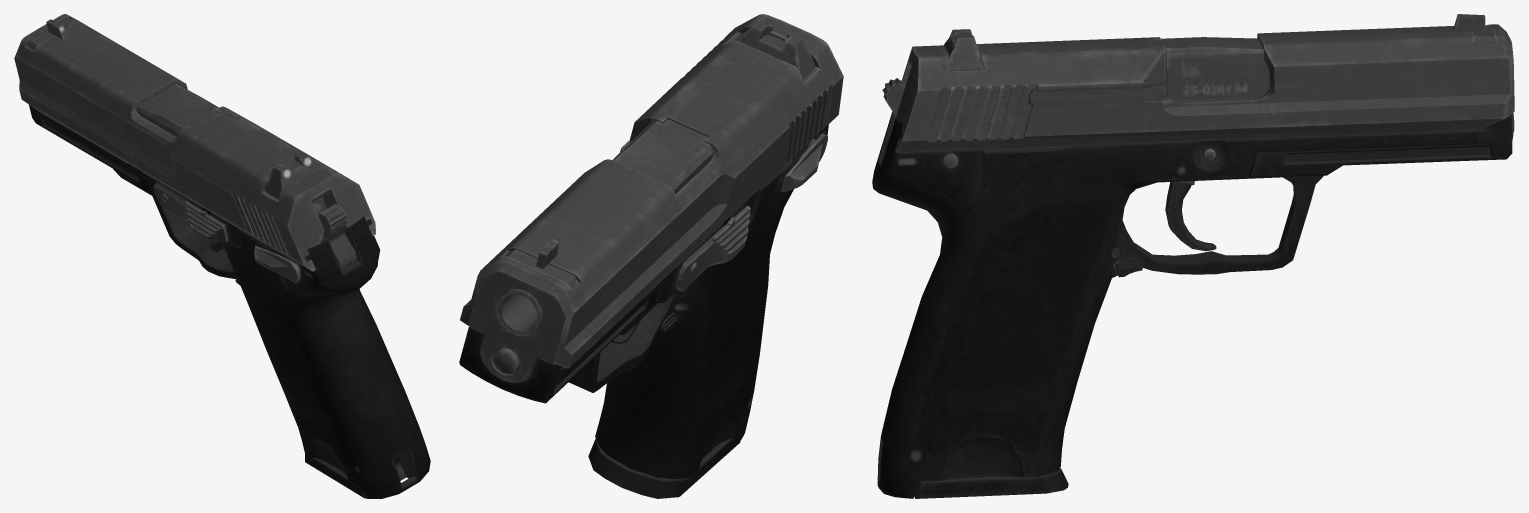
The model's file is usp.glb.
3 renders of one model, left to right at view 1: azimuth 30°, elevation 25°; view 2: azimuth 150°, elevation 25°; view 3: azimuth 270°, elevation 25°, orthographic. The views are drawn at different scales.
Parts seen in each view (by area): view 1: bolt, mag, body; view 2: bolt, mag, body; view 3: bolt, mag, body.
Boxes of the visible parts, x1=… form: bolt: x1=14, y1=14, x2=380, y2=293; mag: x1=220, y1=232, x2=430, y2=498; body: x1=40, y1=114, x2=362, y2=294; bolt: x1=459, y1=14, x2=843, y2=403; mag: x1=588, y1=163, x2=791, y2=498; body: x1=553, y1=124, x2=828, y2=394; bolt: x1=872, y1=14, x2=1514, y2=193; mag: x1=877, y1=131, x2=1476, y2=498; body: x1=878, y1=146, x2=1506, y2=479.
Size of the model in its own units: 0.0786 by 0.1404 by 0.194.
Materials: 2 (2 with a texture image).
